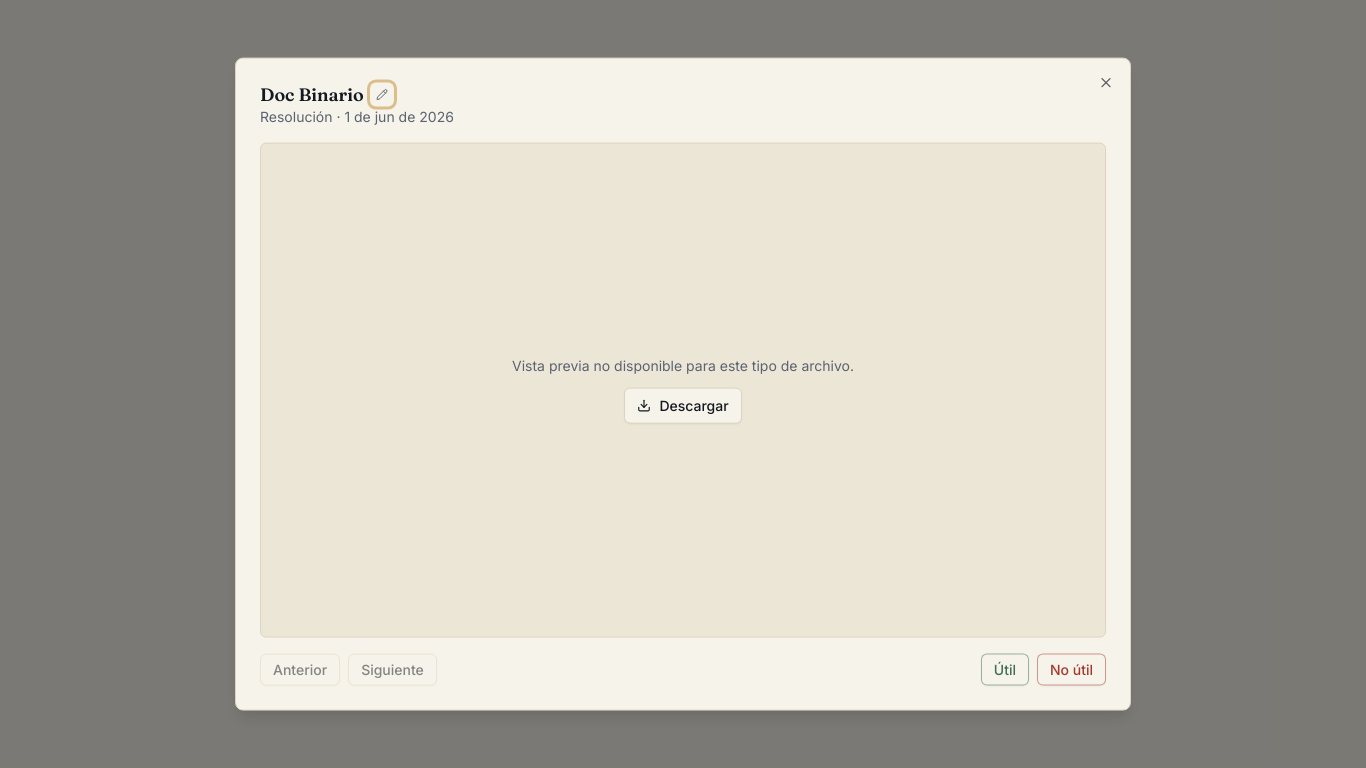
Scenario: DocumentPreviewDialog › shows an error banner instead of doing nothing when the fallback Descargar button fails
Click the button "Descargar" at (683, 406), box 624,388 -> 742,424
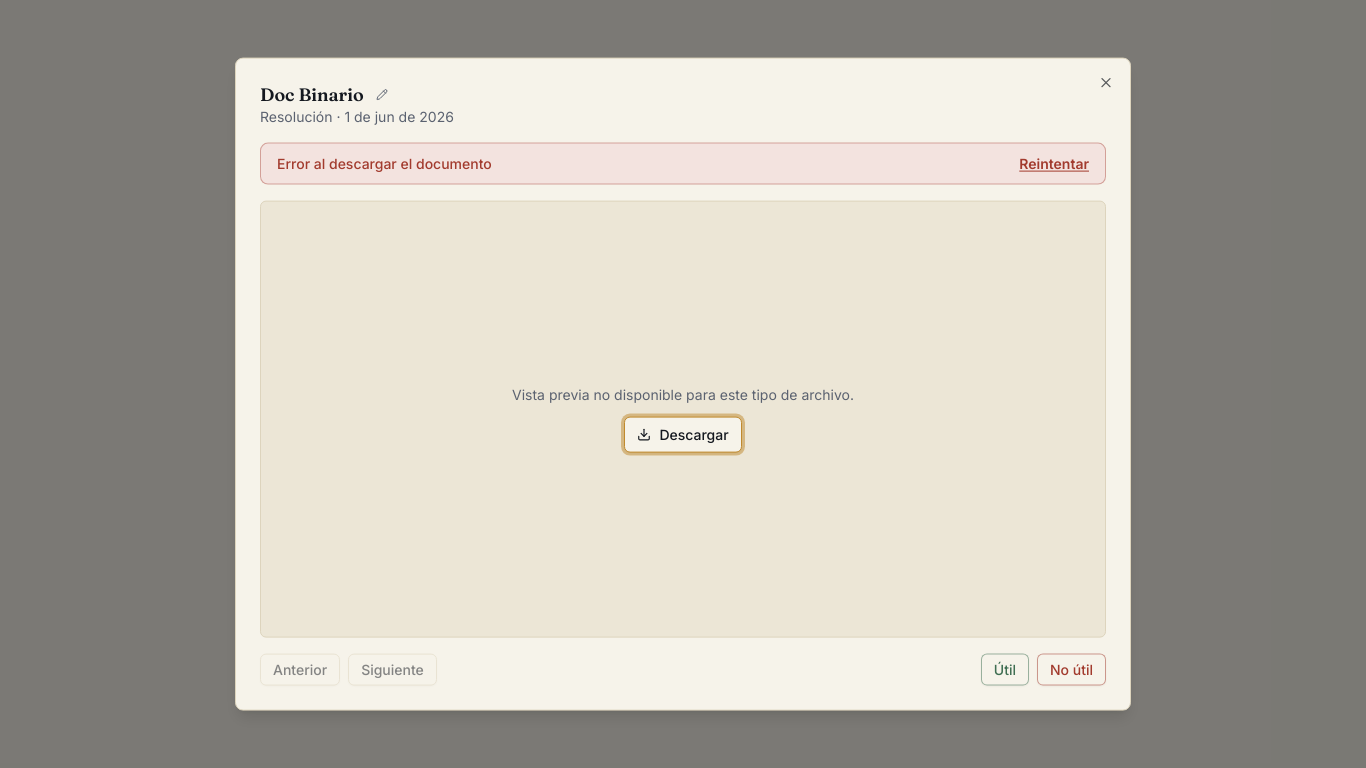
Now the text "Error al descargar el documento" is shown, box 277,154 -> 492,174
